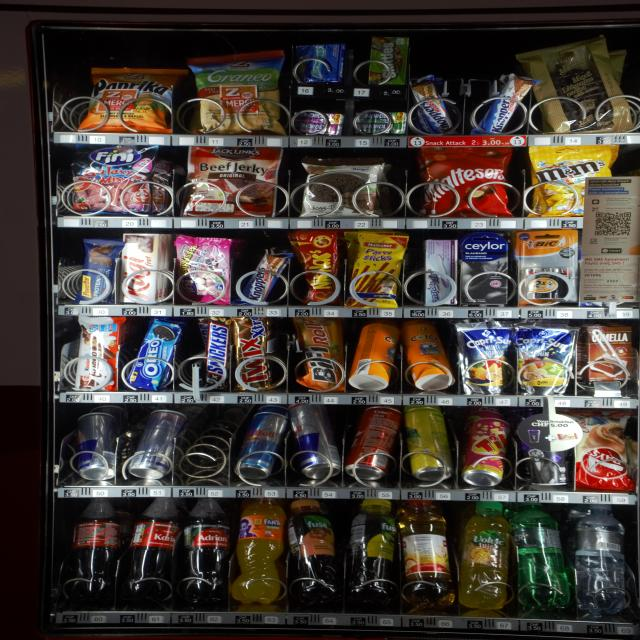7days_croissantschoko_packung_80_1_0000000000003: (578, 408, 630, 492)
airwaves_menthoneucalyptus_riegel_14_1_50173167: (305, 43, 347, 83)
berger____: (300, 154, 388, 220)
bifi_roll__50__4251097402635: (295, 315, 345, 393)
bueno___43__4008400320328: (71, 315, 125, 393)
c-swiss_dosenabisicetea__33__9120025930135: (401, 323, 462, 393), (346, 322, 400, 395)
caferoyal_classicmacchiato__33__7617014164487: (519, 422, 570, 488)
caprisun_multivitamin__20__4000177605004: (513, 323, 580, 396), (460, 324, 516, 396)
coke__flasche_50__54491472: (125, 498, 184, 607), (64, 498, 125, 603), (345, 405, 401, 487)
coke_zero_flasche_50__5449000131836: (183, 498, 234, 606)
comella_schokodrink__33__7613100037253: (581, 324, 634, 397)
evian___50__3068320353500: (572, 503, 630, 616)
fanta___50__40822938: (234, 498, 285, 606)
fini_galaxymix_packung_100_1_8410525150364: (71, 142, 155, 212)
fini_jellykisses_packung_80_1_8410525116704: (177, 235, 234, 302)
fuse_lemon__50__5449000235947: (345, 497, 400, 608)
fuse_lemon_dose_33__5449000235947: (404, 406, 451, 475)
fuse_peach__50__5449000236623: (288, 496, 334, 605)
jacklinks_beefjerkyorginal__25__4047751730219: (176, 141, 282, 218)
jlbrichard_gauffrechoko__90__5410495002079: (532, 45, 628, 127)
kagi___50__7610046000259: (119, 230, 166, 306)
knoppers_riegel____4035800488808: (465, 66, 543, 139), (402, 72, 463, 133), (239, 248, 293, 306)
lorenz_nicnacs__40__4018077798818: (288, 229, 344, 309)
malburner_partysticks__40__7610200279682: (344, 230, 408, 309)
maltesers___100__5000159023061: (413, 143, 523, 222)
mnms_gelb__45__40111445: (524, 144, 624, 219)
oreo___66__84100733: (125, 317, 186, 388)
powerbar_proteinplusschoko__55__4029679520028: (80, 238, 122, 302)
ramseier_schorle__50__7610057012456: (395, 499, 451, 615)
redbull___33__90162909: (280, 399, 346, 480), (128, 407, 187, 478), (72, 411, 122, 481)
redbull_light__33__90162800: (234, 411, 287, 484)
skittles_sour_riegel_51_1_: (367, 34, 411, 85)
snickers___50__5000159461122: (199, 316, 231, 392)
stimorol_spearmint_riegel_14_1_: (348, 112, 404, 136)
stimorol_wildcherry_riegel_14_1_57060330: (296, 112, 346, 135)
tiki_himbeerbrause_dose_33_1_: (470, 416, 510, 484)
twix___50__5000159459228: (228, 314, 272, 394)
valser_classic__50__76404160: (506, 502, 564, 611)
volvic_pinapple__50__305764335648: (454, 498, 516, 611)
zweifel_graneochilli__100__7610095184009: (183, 50, 294, 136)
zweifel_paprika__90__7610095013002: (82, 61, 177, 137)
